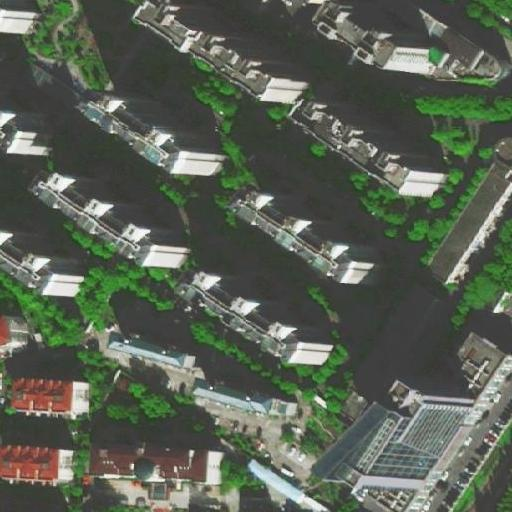building: (305, 381, 488, 500), (128, 0, 313, 107), (288, 92, 450, 204), (228, 184, 387, 287), (173, 268, 338, 365), (33, 171, 196, 268), (74, 89, 233, 175), (354, 277, 447, 403), (93, 444, 222, 488), (442, 331, 511, 411), (104, 333, 192, 371), (192, 381, 283, 414), (243, 456, 306, 502), (17, 380, 91, 417), (1, 449, 74, 485), (298, 483, 342, 512), (493, 279, 512, 311), (493, 129, 512, 160)
